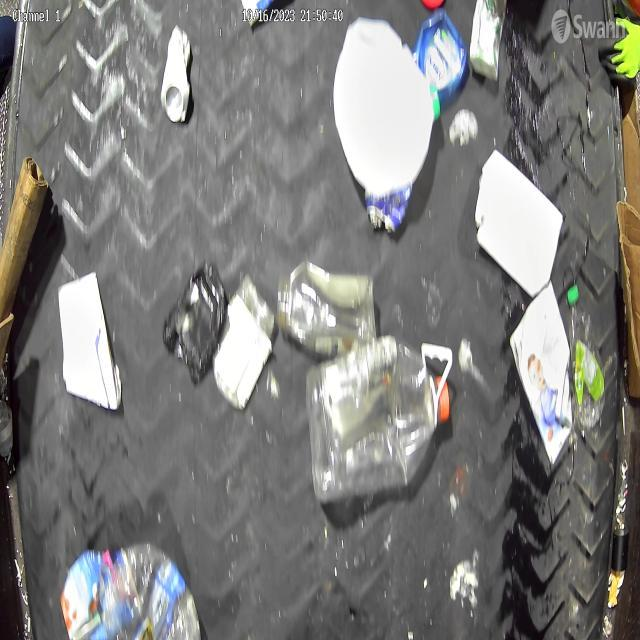can: (160, 22, 194, 124), (362, 184, 414, 237)
milk_jug: (332, 13, 441, 200)
non_white_jug: (304, 333, 456, 503), (413, 6, 468, 105)
plastic_bottle: (102, 537, 204, 640), (565, 285, 608, 434)
